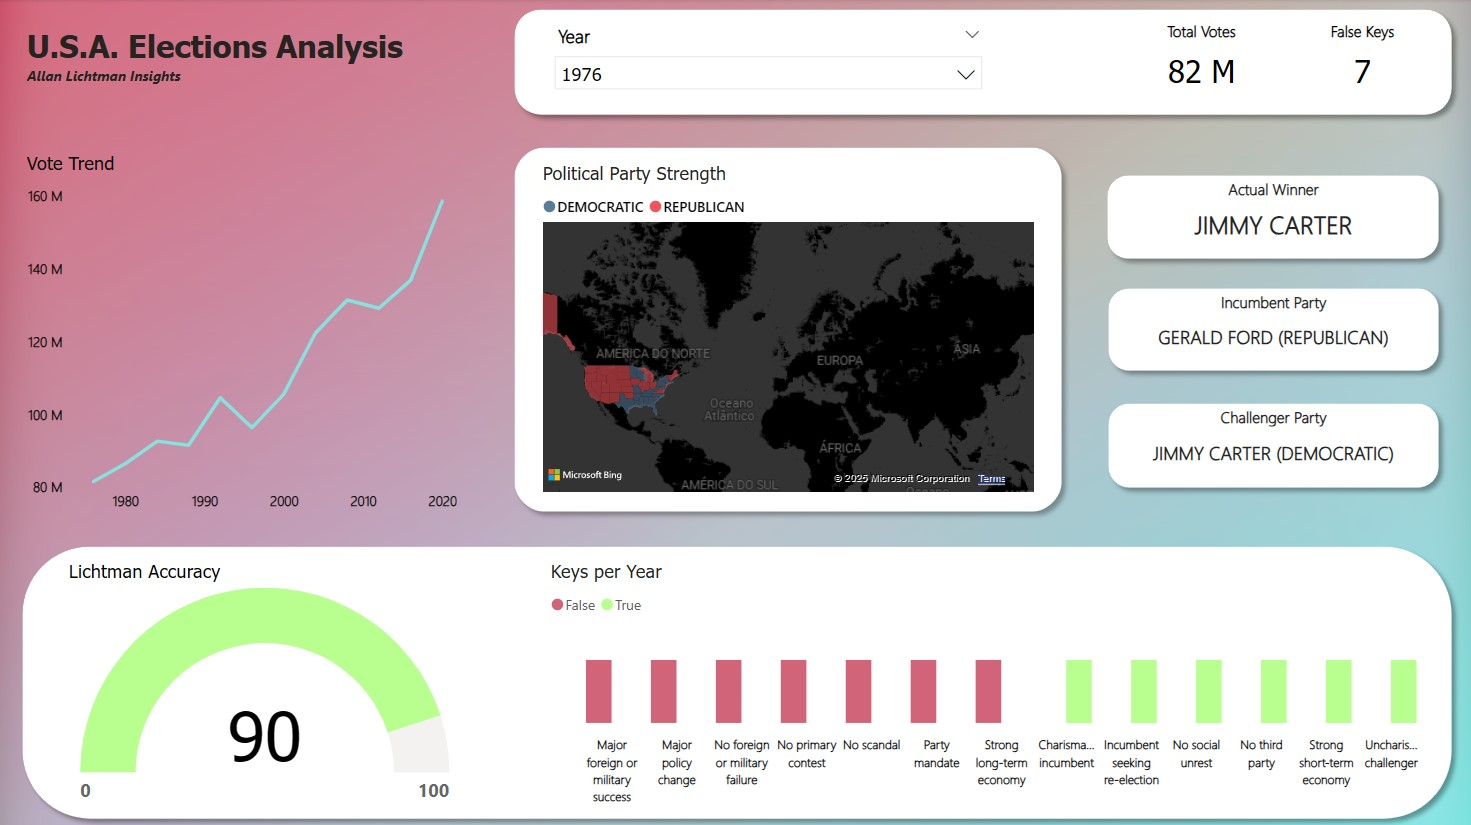

The page's visual inventory and layout, read from the dashboard file:
{"tool":"powerbi","page":{"name":"Página 1","canvas":[1280,720],"ordinal":0},"visuals":[{"type":"shape","box":[11,443.7,1258,253.8],"z":0},{"type":"shape","box":[456.6,22,812.4,108.9],"z":2000},{"type":"slicer","fields":{"Values":["USAelections last.year"]},"box":[484.6,46,391.7,62],"z":4000},{"type":"card","title":"Total Votes","fields":{"Values":["USAelections last.TotalVotesOriginal"]},"box":[946.3,45,149.9,63],"z":5000},{"type":"textbox","box":[11,31,391.7,92.9],"z":6000},{"type":"lineChart","title":"Vote Trend","fields":{"Y":["USAelections last.TotalVotesOriginal"],"Category":["USAelections last.year"]},"box":[54.4,159.2,348.8,254.7],"z":7000},{"type":"card","title":"False Keys","fields":{"Values":["USAelections last.FalseKeysVlauesOriginal"]},"box":[1104.9,46.4,149.9,62.3],"z":8000},{"type":"gauge","title":"Lichtman Accuracy","fields":{"Y":["USAelections last.LichtmanAccuracy"]},"box":[53.1,464.2,350.2,220.2],"z":9000},{"type":"filledMap","title":"Political Party Strength","fields":{"Category":["USAelections last.state"],"Series":["USAelections last.WinningParty"]},"box":[484.1,159.2,392.6,254.7],"z":10000},{"type":"shape","box":[939.3,241.8,271.8,89.9],"z":11000},{"type":"clusteredColumnChart","title":"Keys per Year","fields":{"Category":["LichtmanPivoting.Keys"],"Y":["LichtmanPivoting.CountFalse","LichtmanPivoting.CountTrue"]},"box":[470.6,464.6,784.4,219.8],"z":12000},{"type":"card","title":"Challenger Party","fields":{"Values":["USAelections last.Challenger Party"]},"box":[913.9,258.7,322.3,66.3],"z":13000},{"type":"shape","box":[939.3,327.7,272.8,90.9],"z":14000},{"type":"card","title":"Incumbent Party","fields":{"Values":["USAelections last.Incumbent Party"]},"box":[923.3,347.7,321.7,65.9],"z":15000},{"type":"shape","box":[939.3,158.9,272,90],"z":16000},{"type":"card","title":"Actual Winner","fields":{"Values":["USAelections last.Actual winner"]},"box":[915.3,175.9,321.7,65.9],"z":17000}]}

Visuals, with their boxes in screenshot pixels (x1, y1, x2, y2), scaled from the page's 1280x720 canvas onto the 1471x825 screenshot:
shape: l=13, t=508, r=1458, b=799
shape: l=525, t=25, r=1458, b=150
slicer - USAelections last.year: l=557, t=53, r=1007, b=124
"Total Votes" card: l=1088, t=52, r=1260, b=124
textbox: l=13, t=36, r=463, b=142
"Vote Trend" lineChart: l=63, t=182, r=463, b=474
"False Keys" card: l=1270, t=53, r=1442, b=125
"Lichtman Accuracy" gauge: l=61, t=532, r=463, b=784
"Political Party Strength" filledMap: l=556, t=182, r=1008, b=474
shape: l=1079, t=277, r=1392, b=380
"Keys per Year" clusteredColumnChart: l=541, t=532, r=1442, b=784
"Challenger Party" card: l=1050, t=296, r=1421, b=372
shape: l=1079, t=375, r=1393, b=480
"Incumbent Party" card: l=1061, t=398, r=1431, b=474
shape: l=1079, t=182, r=1392, b=285
"Actual Winner" card: l=1052, t=202, r=1422, b=277
